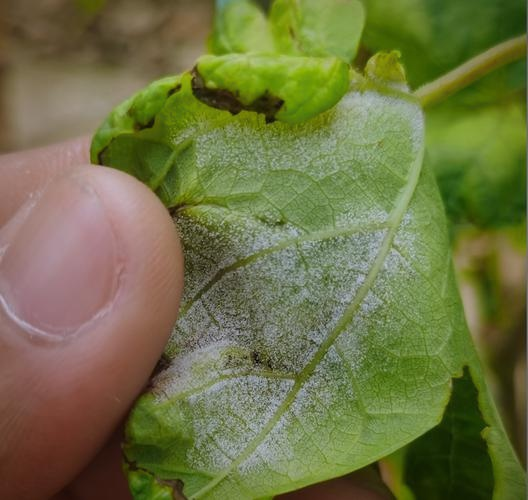Frost_Blight: (150, 81, 404, 462)
